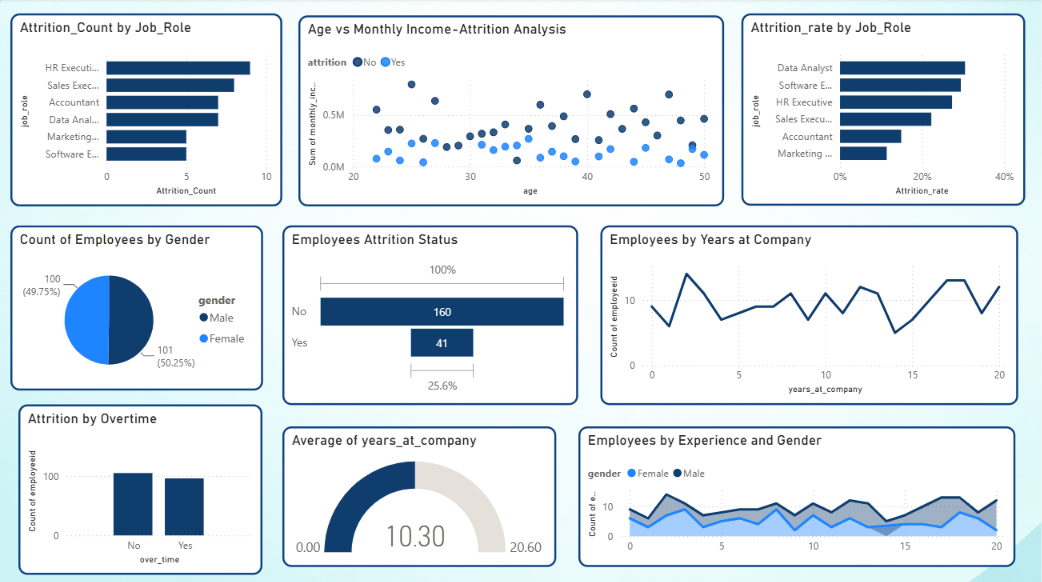

Layout of this report page (visuals, bound fields, positions):
{"tool":"powerbi","page":{"name":"Page 2","canvas":[1280,720],"ordinal":1},"visuals":[{"type":"clusteredBarChart","title":"Attrition_Count by Job_Role","fields":{"Category":["public hr_employee.job_role"],"Y":["public hr_employee.Attrition_Count"]},"box":[24.1,18.1,328.2,232.8],"z":0},{"type":"clusteredBarChart","title":"Attrition_rate by Job_Role","fields":{"Category":["public hr_employee.job_role"],"Y":["public hr_employee.Attrition_rate"]},"box":[906,18.1,342,232],"z":1},{"type":"clusteredColumnChart","title":"Attrition by Overtime","fields":{"Category":["public hr_employee.over_time"],"Y":["CountNonNull(public hr_employee.employeeid)"]},"box":[34.2,490.4,294.7,205.4],"z":2},{"type":"scatterChart","title":"Age vs Monthly Income-Attrition Analysis","fields":{"Series":["public hr_employee.attrition"],"X":["public hr_employee.age"],"Y":["Sum(public hr_employee.monthly_income)"]},"box":[371.6,20.5,513.9,230.4],"z":3},{"type":"funnel","title":"Employees Attrition Status","fields":{"Category":["public hr_employee.attrition"],"Y":["CountNonNull(public hr_employee.employeeid)"]},"box":[352.2,273.9,357.1,216.4],"z":4},{"type":"lineChart","title":"Employees by Years at Company","fields":{"Category":["public hr_employee.years_at_company"],"Y":["CountNonNull(public hr_employee.employeeid)"]},"box":[736.1,273.9,503.8,216.4],"z":5},{"type":"pieChart","title":"Count of Employees by Gender","fields":{"Category":["public hr_employee.gender"],"Y":["CountNonNull(public hr_employee.employeeid)"]},"box":[24.5,273.9,304.5,199.3],"z":6},{"type":"stackedAreaChart","title":"Employees by Experience and Gender","fields":{"Category":["public hr_employee.years_at_company"],"Series":["public hr_employee.gender"],"Y":["CountNonNull(public hr_employee.employeeid)"]},"box":[709.4,516.4,527,170],"z":8},{"type":"gauge","fields":{"Y":["Avg(public hr_employee.years_at_company)"]},"box":[352.2,516,330.2,170],"z":9}]}

Visuals, with their boxes in screenshot pixels (x1, y1, x2, y2), scaled from the page's 1280x720 canvas onto the 1042x582 screenshot:
"Attrition_Count by Job_Role" clusteredBarChart: 20,15,287,203
"Attrition_rate by Job_Role" clusteredBarChart: 738,15,1016,202
"Attrition by Overtime" clusteredColumnChart: 28,396,268,562
"Age vs Monthly Income-Attrition Analysis" scatterChart: 303,17,721,203
"Employees Attrition Status" funnel: 287,221,577,396
"Employees by Years at Company" lineChart: 599,221,1009,396
"Count of Employees by Gender" pieChart: 20,221,268,383
"Employees by Experience and Gender" stackedAreaChart: 577,417,1007,555
gauge - Avg(public hr_employee.years_at_company): 287,417,556,555
